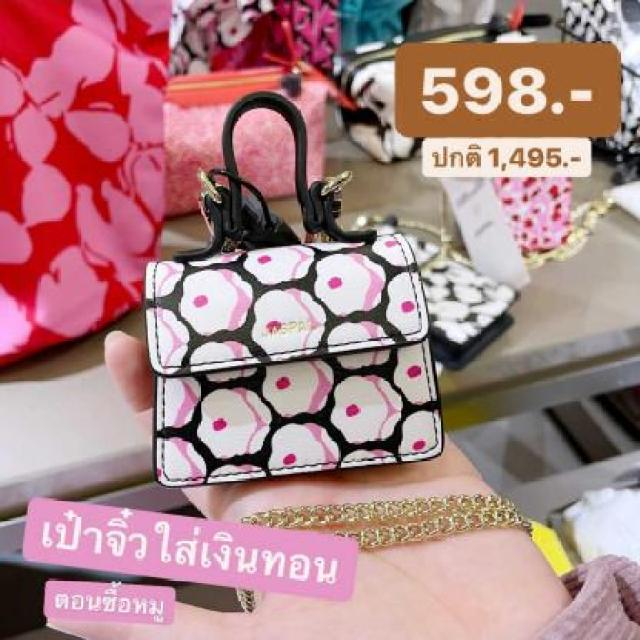Bag: (139, 68, 487, 490)
